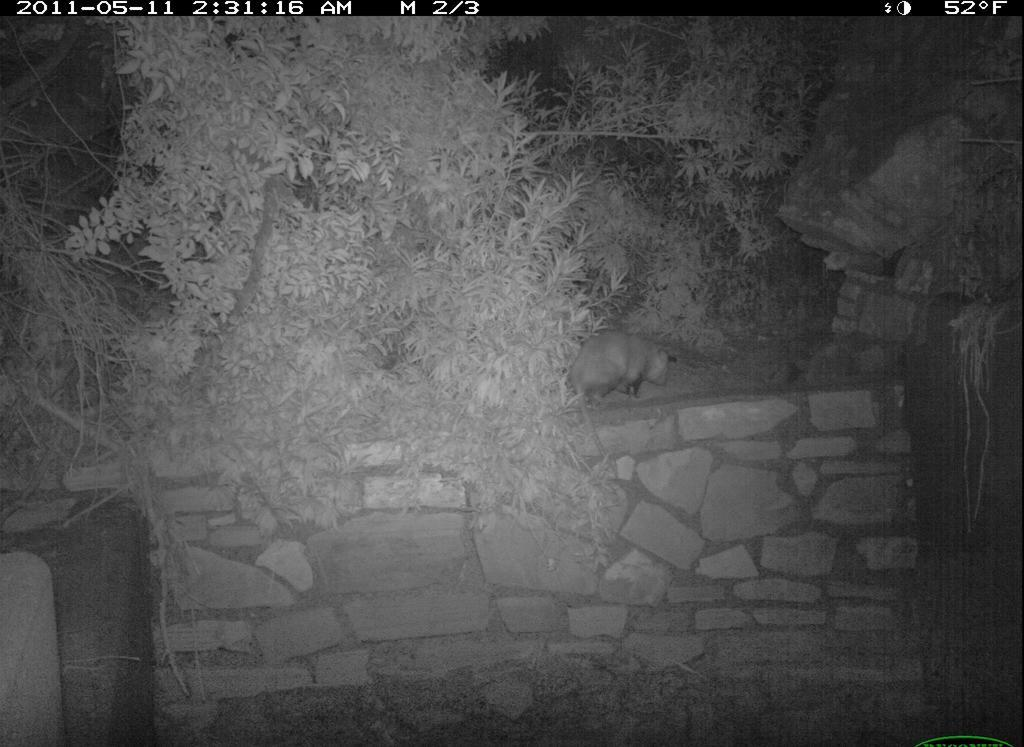opossum: (543, 324, 687, 418)
